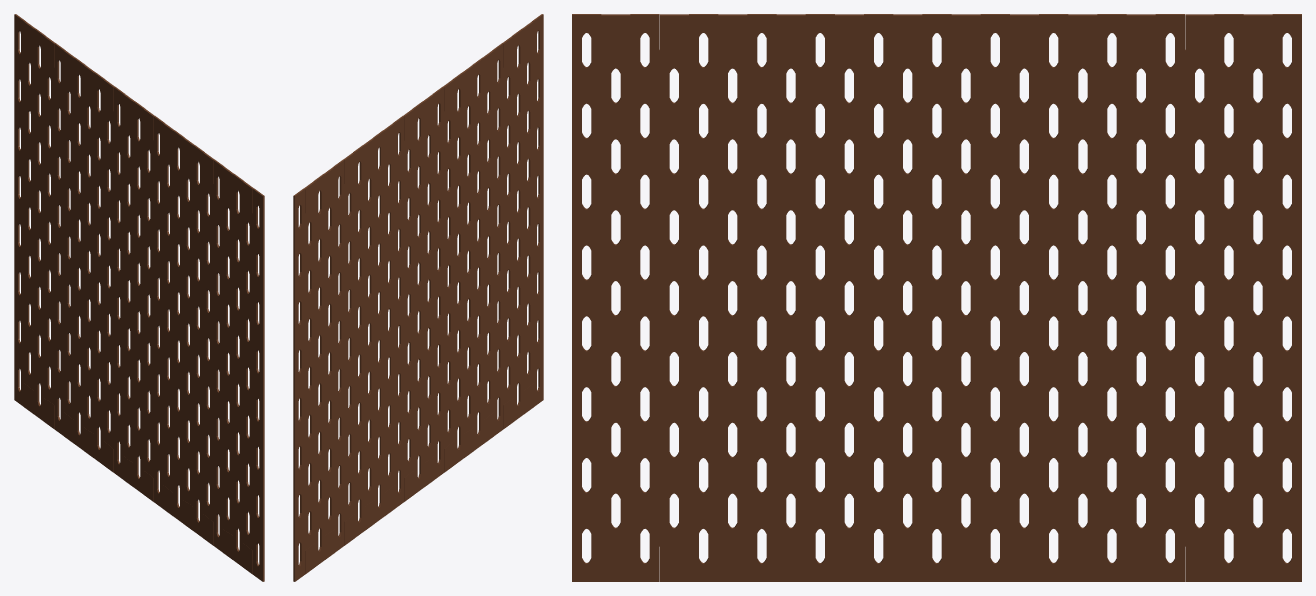
File: const_wall_panel.fbx
The picture shows the model from 3 angles, left to right: view 1: azimuth 30°, elevation 25°; view 2: azimuth 150°, elevation 25°; view 3: azimuth 270°, elevation 25°; orthographic projection. The views are drawn at different scales.
Visible parts, largest first — view 1: mainwall1, mainwall2, mainwall3; view 2: mainwall1, mainwall2, mainwall3; view 3: mainwall1, mainwall2, mainwall3.
Part boxes in pixels (x1,y1,x2,y2): mainwall1: (14, 14, 264, 581); mainwall2: (24, 46, 252, 550); mainwall3: (24, 21, 253, 574); mainwall1: (293, 14, 543, 581); mainwall2: (305, 46, 533, 550); mainwall3: (304, 21, 533, 574); mainwall1: (572, 14, 1301, 581); mainwall2: (601, 50, 1272, 546); mainwall3: (601, 14, 1272, 581).
Bounding box in the file's own units: 12.85 × 2649 × 3091.
